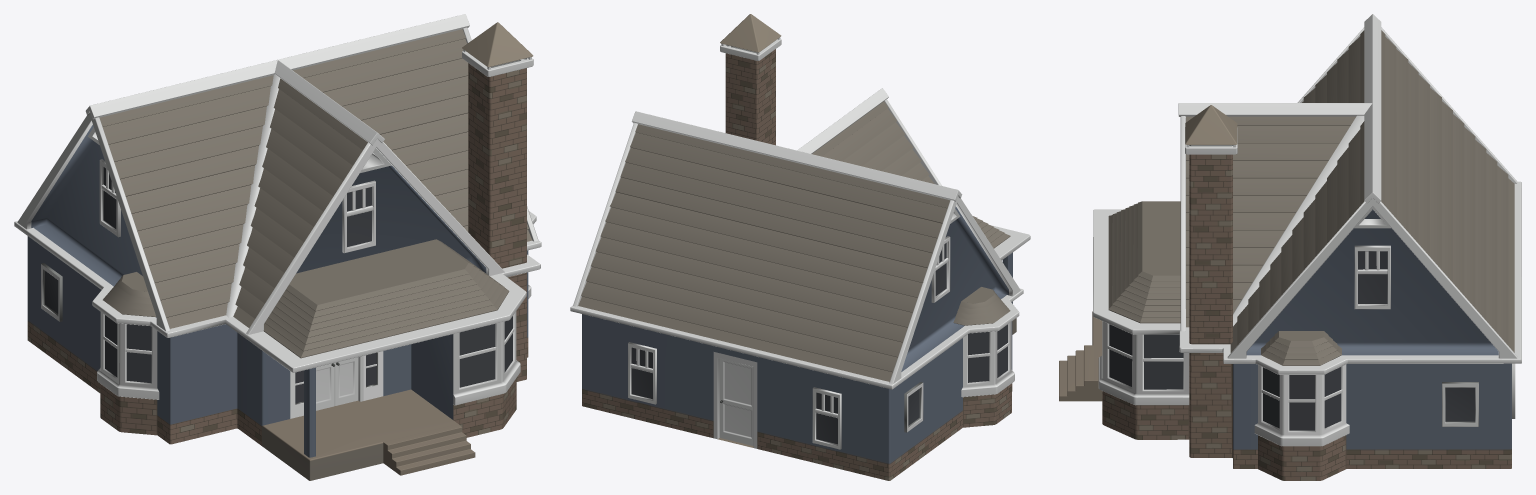
File: House.fbx
3 renders of one model, left to right at view 1: azimuth 30°, elevation 25°; view 2: azimuth 150°, elevation 25°; view 3: azimuth 270°, elevation 25°, orthographic. The views are drawn at different scales.
Visible parts, largest first — view 1: node_id33; view 2: node_id33; view 3: node_id33.
Boxes of the visible parts, left/top/right/bottom form: node_id33: left=14, top=14, right=541, bottom=480; node_id33: left=570, top=14, right=1030, bottom=480; node_id33: left=1059, top=14, right=1521, bottom=480.
Bounding box in the file's own units: 0.512 × 0.4107 × 0.5011.
Materials: 1 (1 with a texture image).
